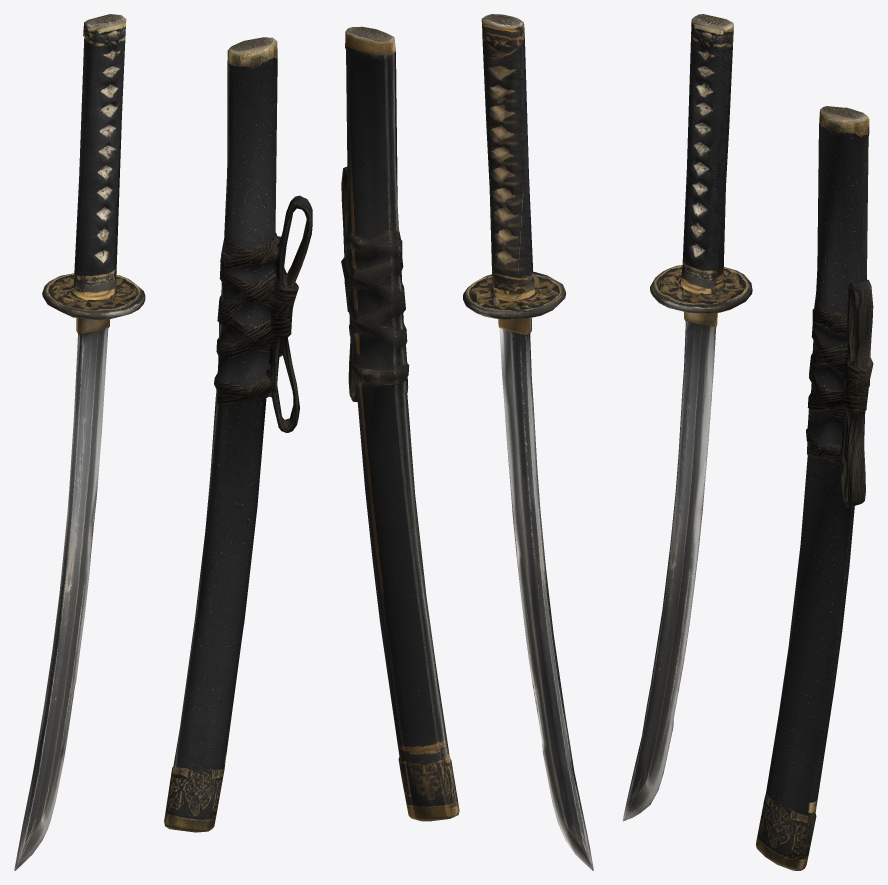
Rendered from Katana.fbx.
3 renders of one model, left to right at view 1: azimuth 30°, elevation 25°; view 2: azimuth 150°, elevation 25°; view 3: azimuth 330°, elevation 25°, orthographic.
Visible parts, largest first — view 1: Mesh_0; view 2: Mesh_0; view 3: Mesh_0.
Part boxes in pixels (bbox=[...]): Mesh_0: bbox=[14, 14, 312, 870]; Mesh_0: bbox=[341, 14, 593, 870]; Mesh_0: bbox=[622, 14, 873, 870].
Size of the model in its own units: 66.31 by 191 by 23.63.
Materials: 1 (1 with a texture image).
